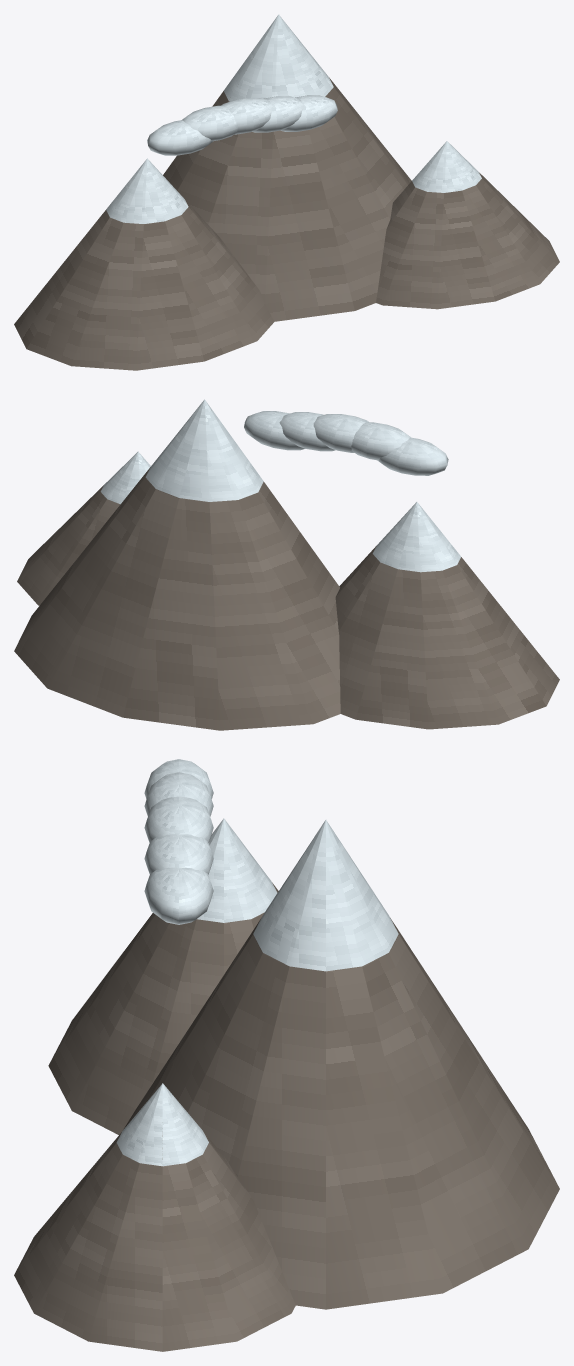
File: snowy-mountains.glb
The picture shows the model from 3 angles, top to bottom: view 1: azimuth 30°, elevation 25°; view 2: azimuth 150°, elevation 25°; view 3: azimuth 270°, elevation 25°; orthographic projection. The views are drawn at different scales.
Visible parts, largest first — view 1: rock peak (×3), snow cap (×3), cloud (×5); view 2: rock peak (×3), snow cap (×3), cloud (×5); view 3: rock peak (×3), snow cap (×3), cloud (×5).
Boxes of the visible parts, bbox=[...] form: rock peak (×3): bbox=[14, 77, 559, 370]; snow cap (×3): bbox=[106, 14, 481, 223]; cloud (×5): bbox=[147, 95, 337, 155]; rock peak (×3): bbox=[14, 467, 559, 730]; snow cap (×3): bbox=[100, 399, 460, 572]; cloud (×5): bbox=[244, 411, 448, 475]; rock peak (×3): bbox=[14, 882, 559, 1351]; snow cap (×3): bbox=[116, 818, 398, 1166]; cloud (×5): bbox=[144, 759, 213, 924].
Bounding box in the file's own units: 4.37 × 2 × 2.68.
2 materials, 2 textured.
